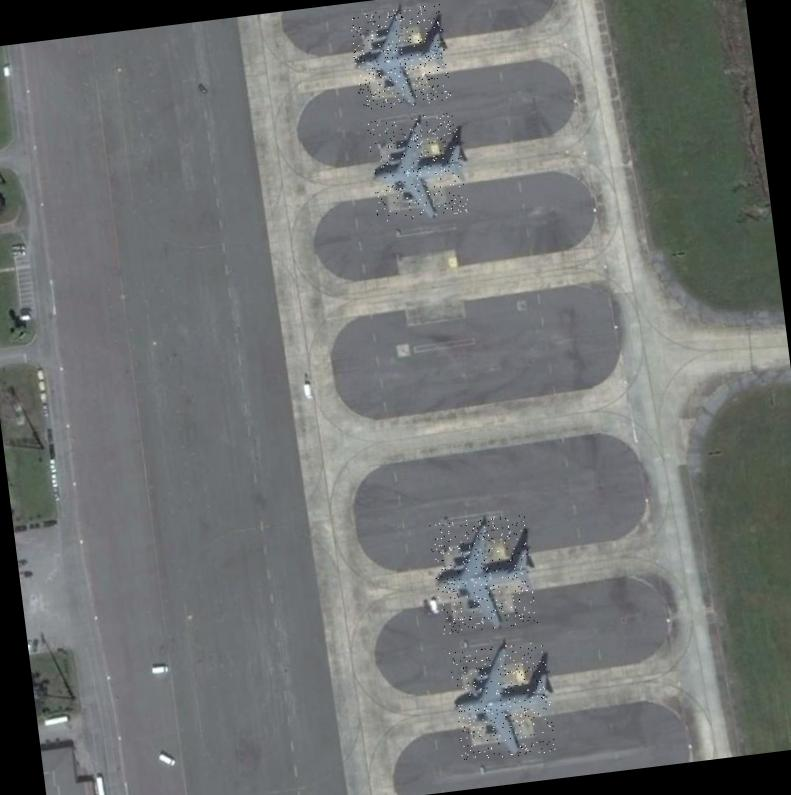A3: (428, 512, 538, 634), (448, 640, 556, 762), (365, 111, 469, 222), (348, 4, 451, 111)
